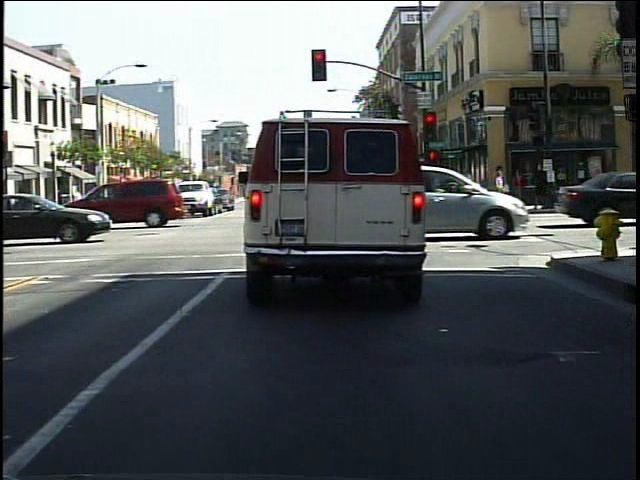person: (529, 159, 551, 209), (511, 166, 531, 197)
